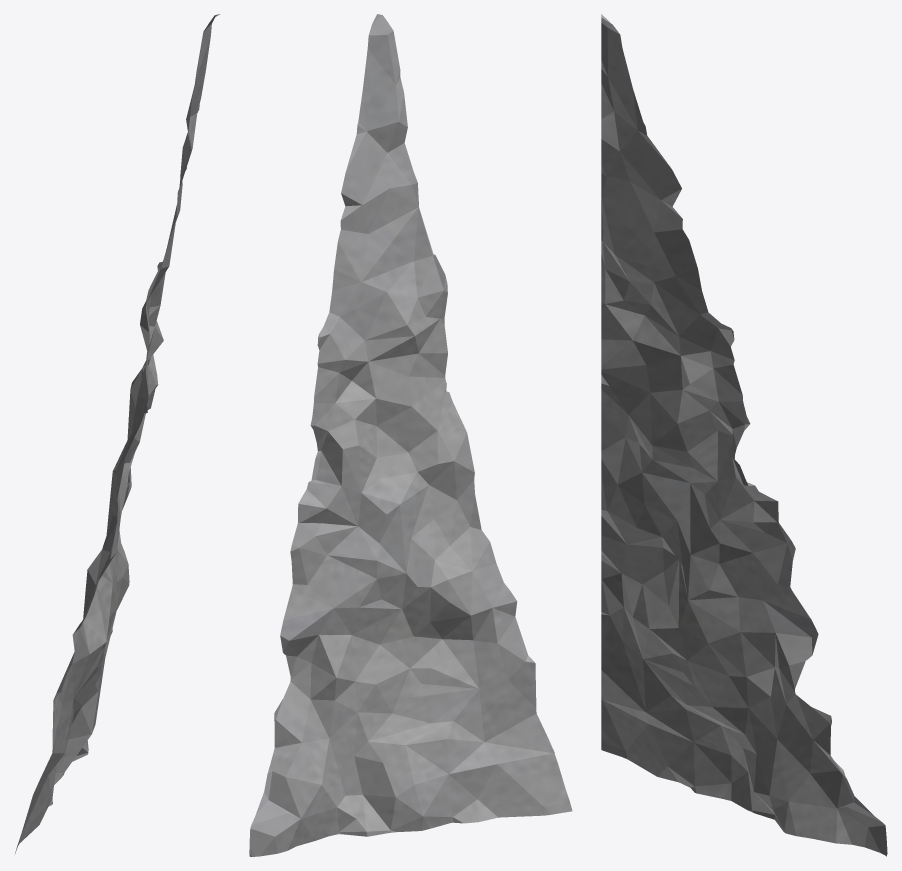
3 views of the same model, side by side, from view 1: azimuth 30°, elevation 25°; view 2: azimuth 150°, elevation 25°; view 3: azimuth 270°, elevation 25° (orthographic). The views are drawn at different scales.
Size of the model in its own units: 0.1934 by 0.7088 by 0.2188.
Materials: 1 (1 with a texture image).
